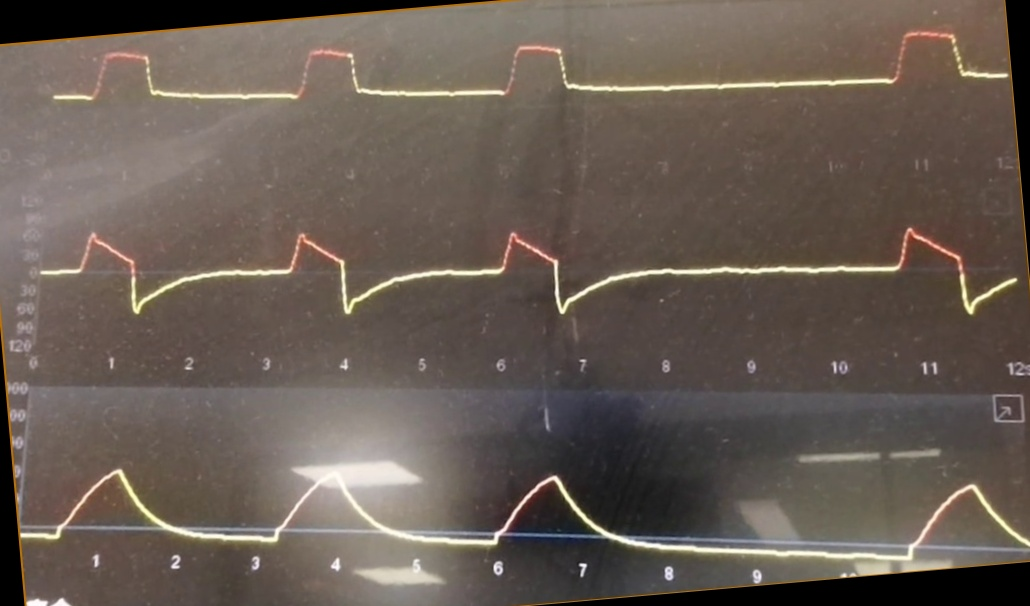Normal Flow: (41, 208, 1015, 326)
Normal Volume: (25, 439, 1030, 556)
